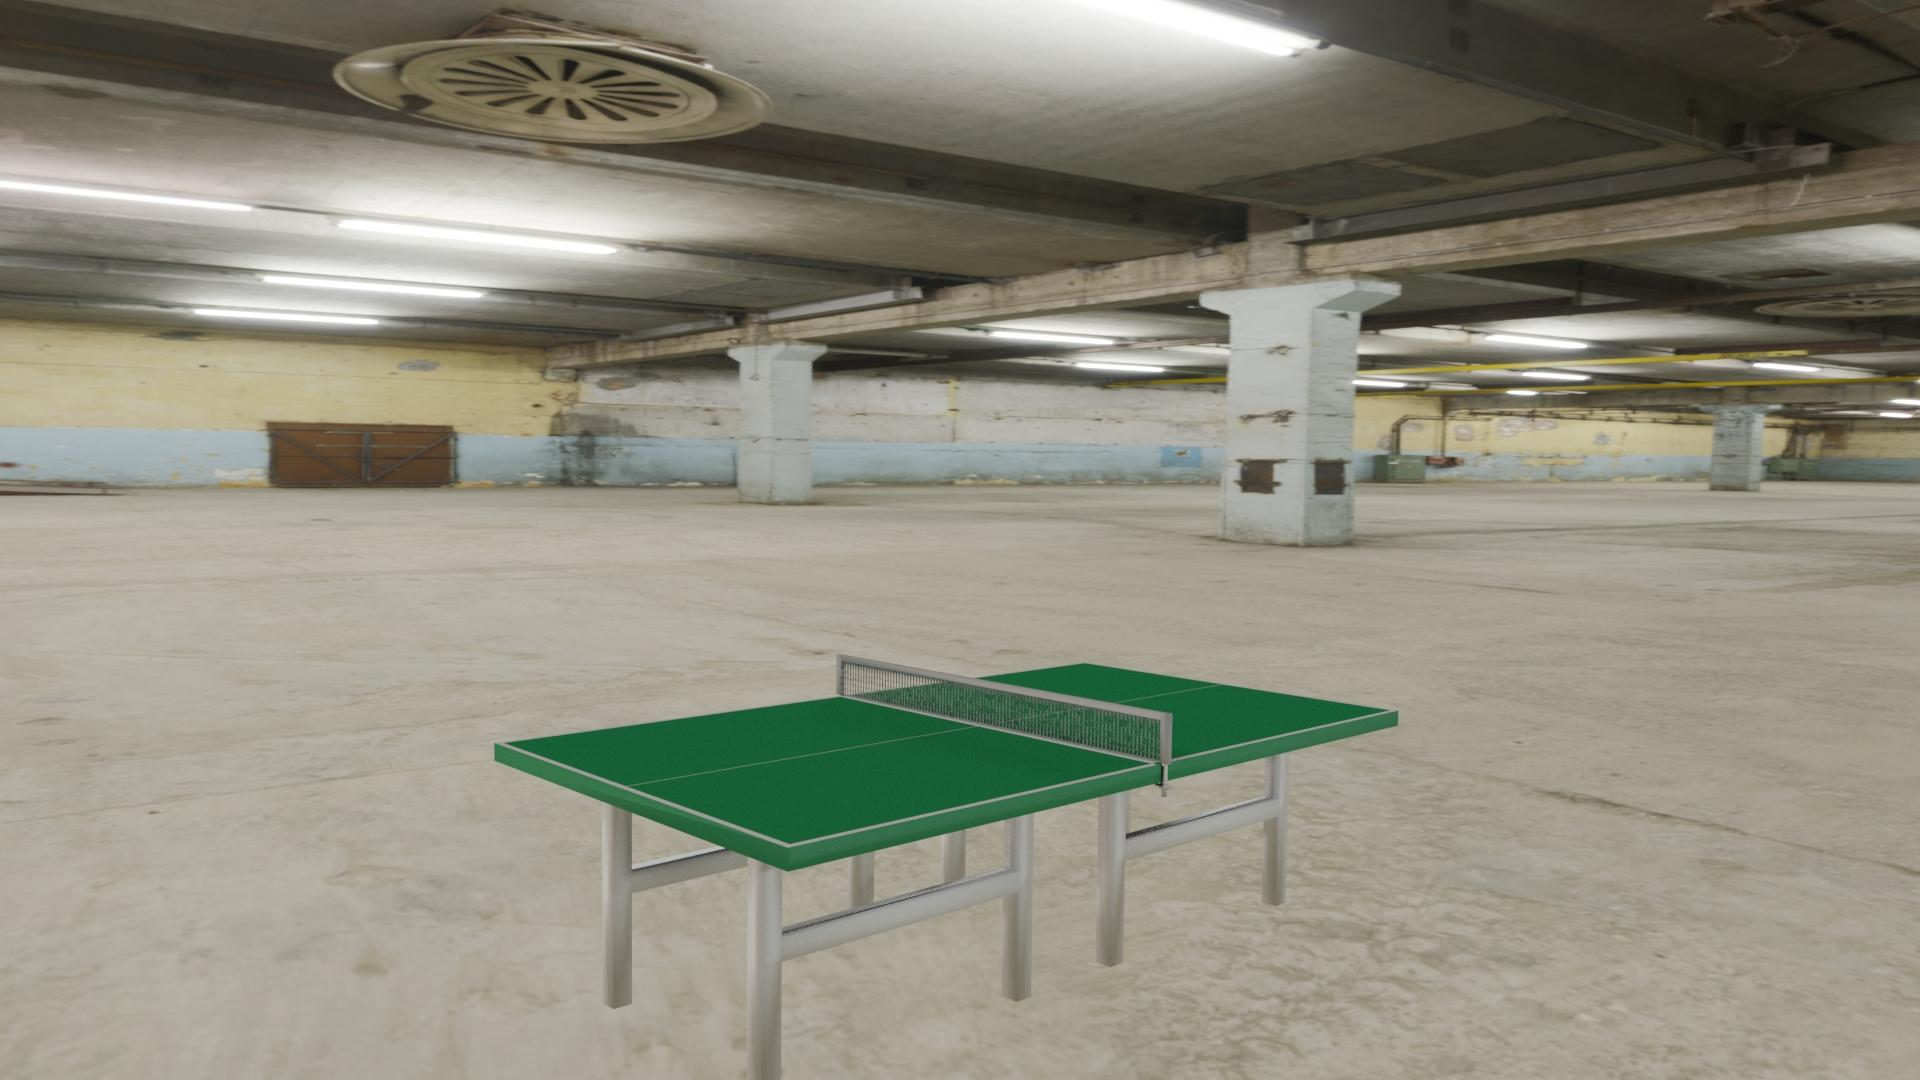table: (504, 663, 1391, 844)
